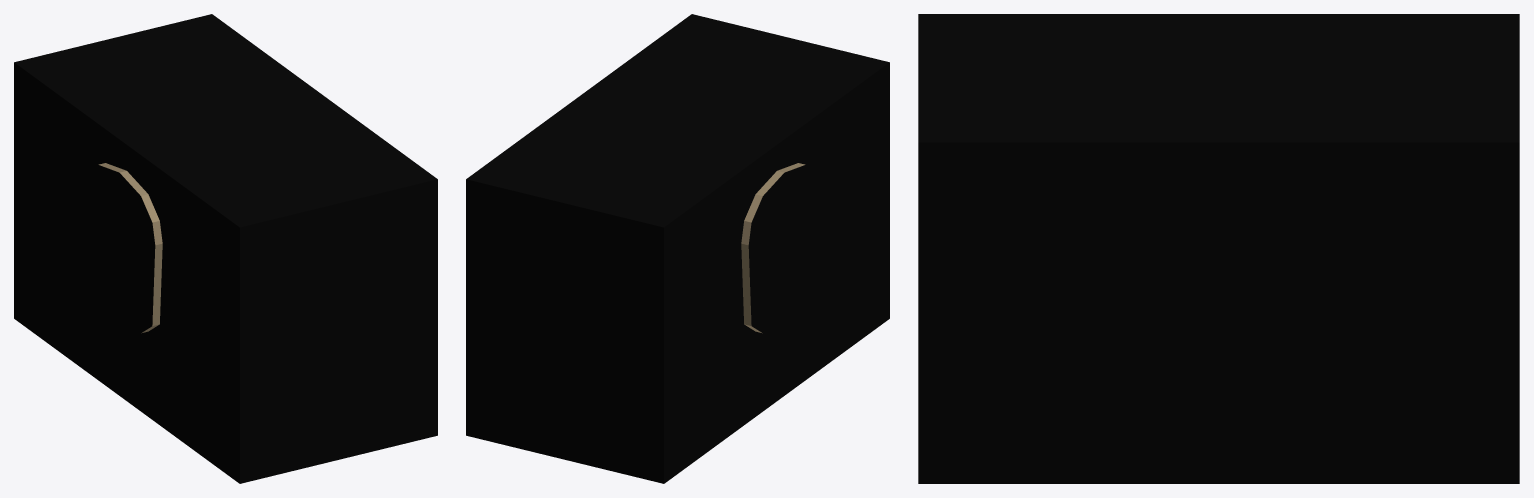
Rendered from mounted-glory.gltf.
3 views of the same model, side by side, from view 1: azimuth 30°, elevation 25°; view 2: azimuth 150°, elevation 25°; view 3: azimuth 270°, elevation 25° (orthographic). The views are drawn at different scales.
Size of the model in its own units: 83 by 99 by 158.
2 materials, 2 textured.
